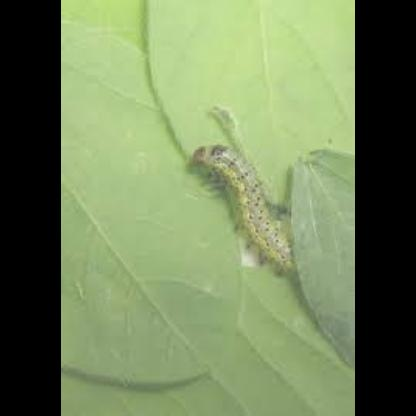oruga: (186, 136, 293, 272)
